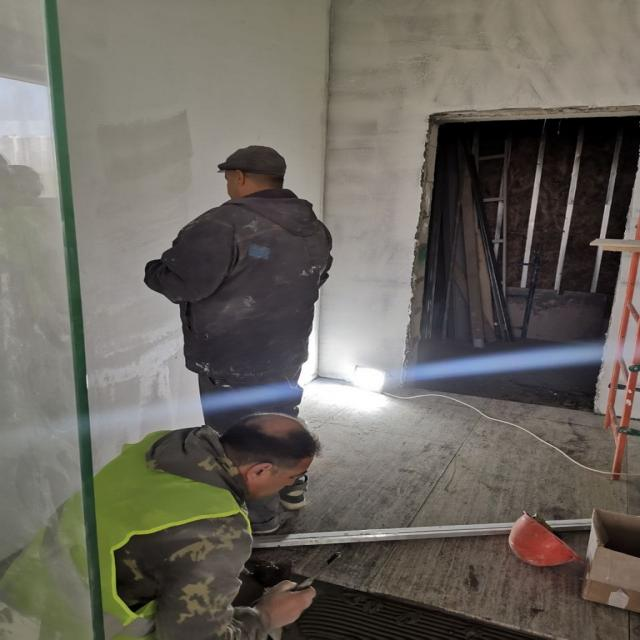NoHelmet: (217, 412, 323, 502), (219, 145, 290, 201)
